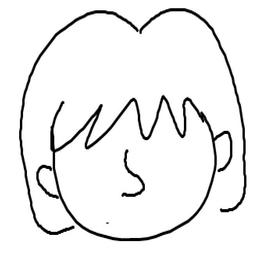ear: (34, 163, 65, 205), (211, 128, 236, 175)
nose: (120, 146, 147, 203)
